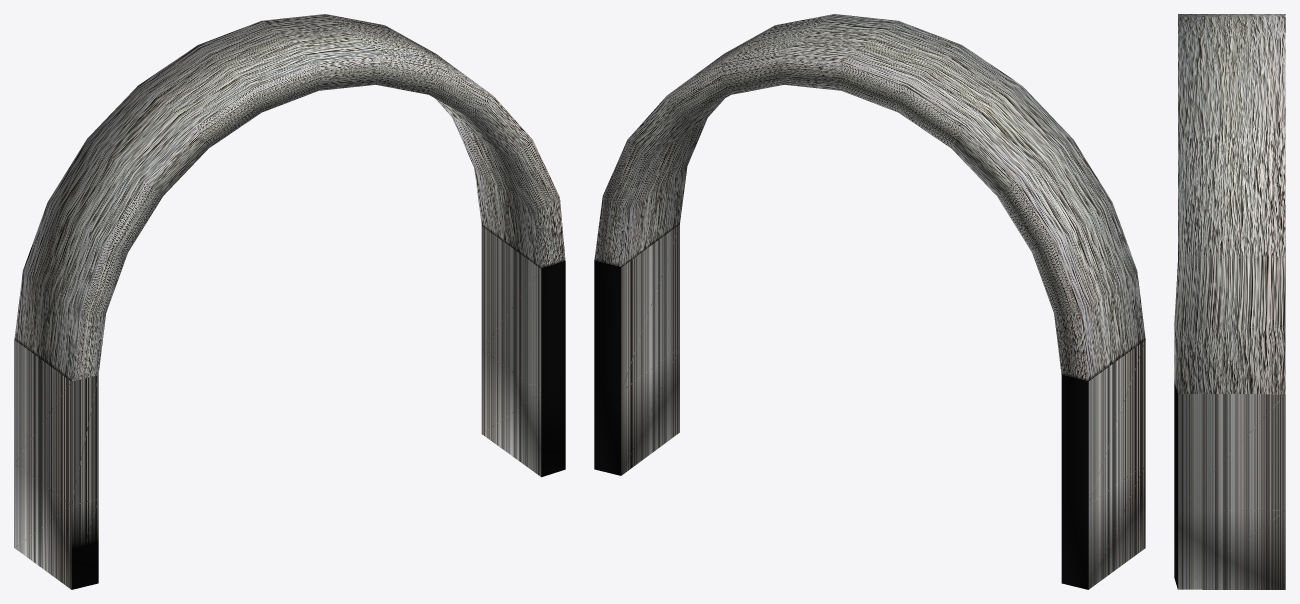
The model's file is arco.obj.
The picture shows the model from 3 angles, left to right: view 1: azimuth 30°, elevation 25°; view 2: azimuth 150°, elevation 25°; view 3: azimuth 270°, elevation 25°; orthographic projection. The views are drawn at different scales.
Visible parts, largest first — view 1: Box001; view 2: Box001; view 3: Box001.
Boxes of the visible parts, x1,y1,x2,y2 form: Box001: [14, 14, 565, 589]; Box001: [594, 14, 1145, 589]; Box001: [1174, 14, 1285, 589].
Bounding box in the file's own units: 98.6 × 89.05 × 20.47.
1 material, 1 textured.
